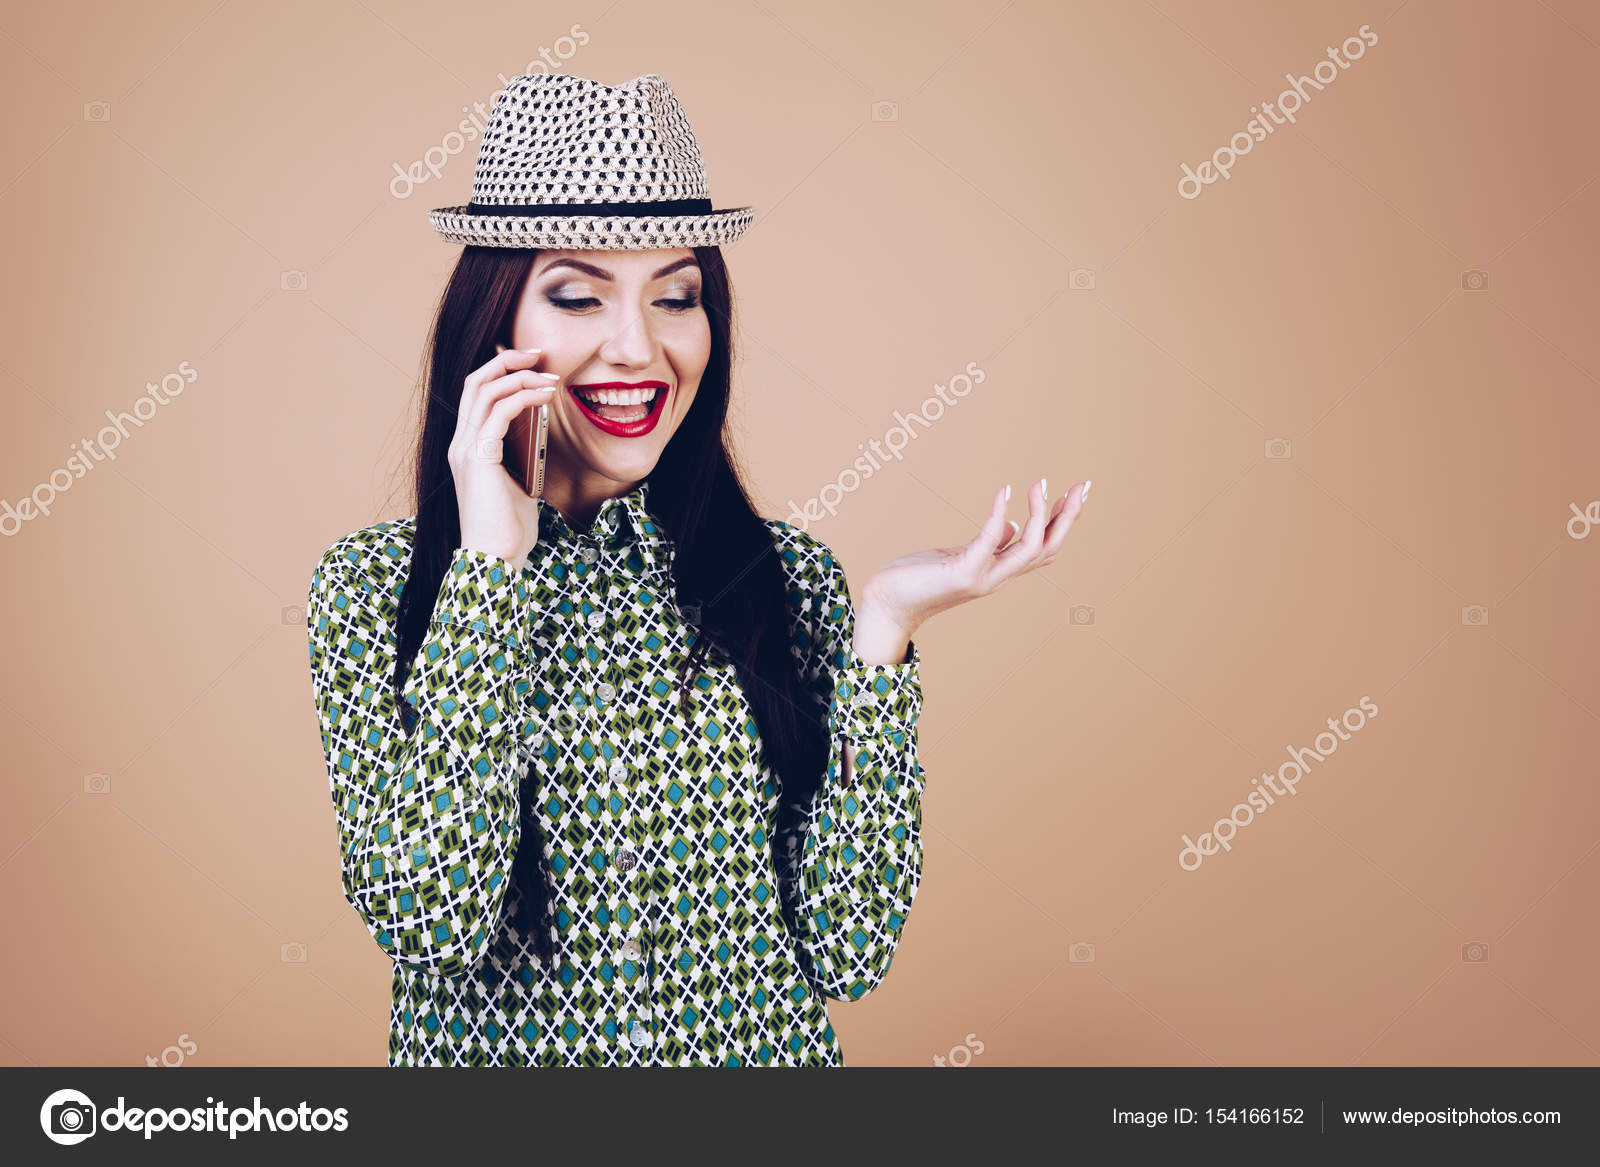phone: (443, 341, 560, 505)
talk: (440, 250, 713, 538)
